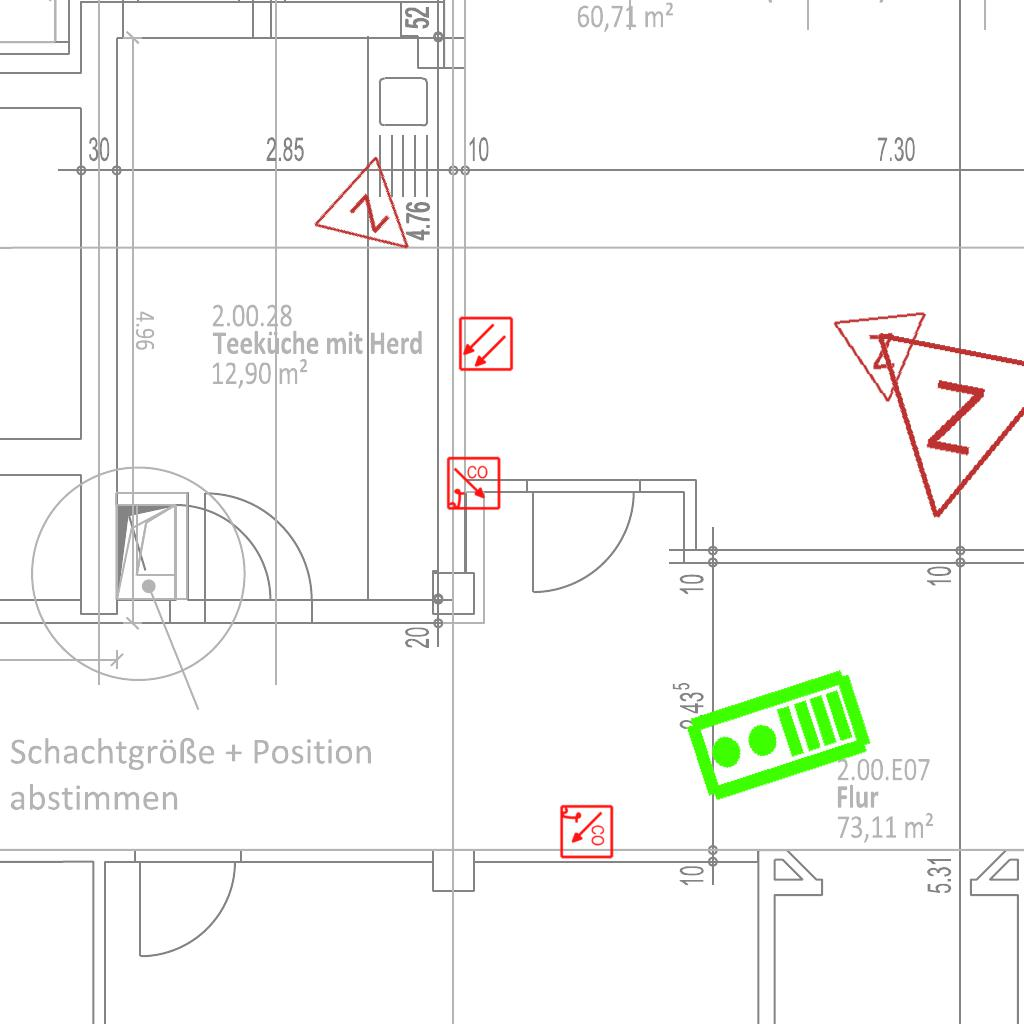Gegensprechanlage_mit_Video: (680, 664, 877, 810)
RMO_Rauchmelder_optischer: (458, 316, 514, 372)
ROA_Rauchmelder_optisch_mit_Signalgeber_(Sockelsirene): (558, 804, 614, 860), (446, 456, 502, 512)
Zimmersignalleuchte: (839, 317, 1024, 551), (307, 148, 447, 288), (831, 304, 939, 414)
